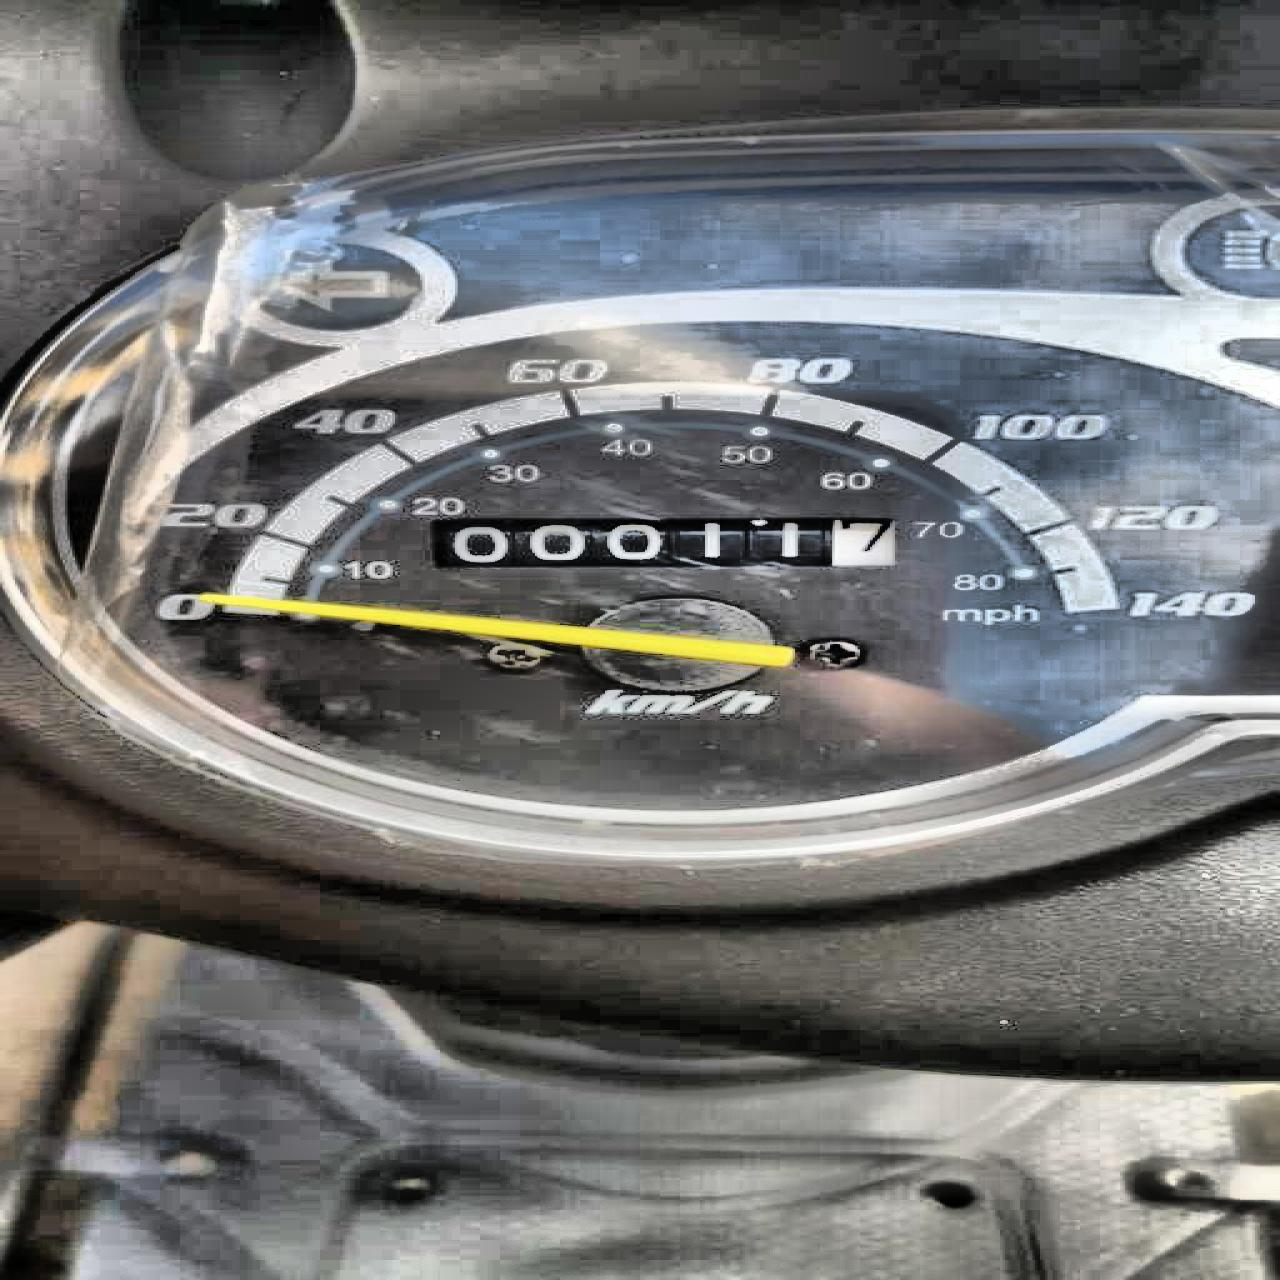0: (527, 524, 583, 560), (450, 525, 505, 561), (605, 523, 660, 558)
1: (778, 520, 801, 556), (700, 520, 717, 556)
7: (838, 518, 890, 550)
odometer: (424, 515, 897, 568)
